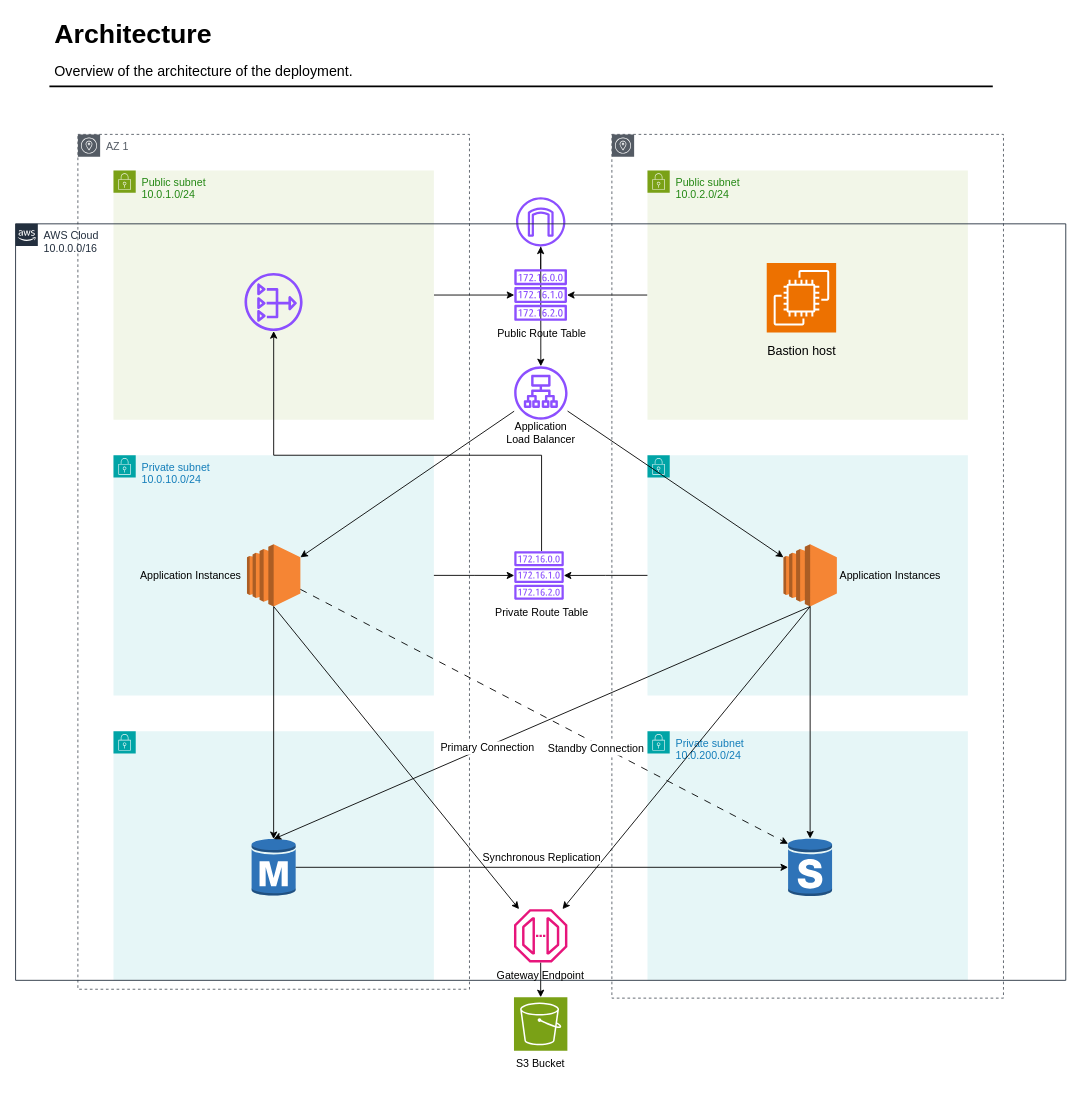
Some shapes in this 1081 by 1093 pixel diagram are drawn without their labels. Here are the shapes that lost their labels. From the top down, the box of each, then its label:
(611, 134, 1003, 998): AZ 2
(647, 454, 968, 696): Private subnet 10.0.20.0/24
(113, 730, 434, 980): Private subnet 10.0.100.0/24
